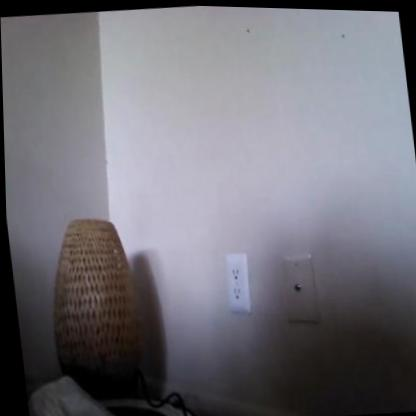OUTLET: (224, 250, 253, 314)
